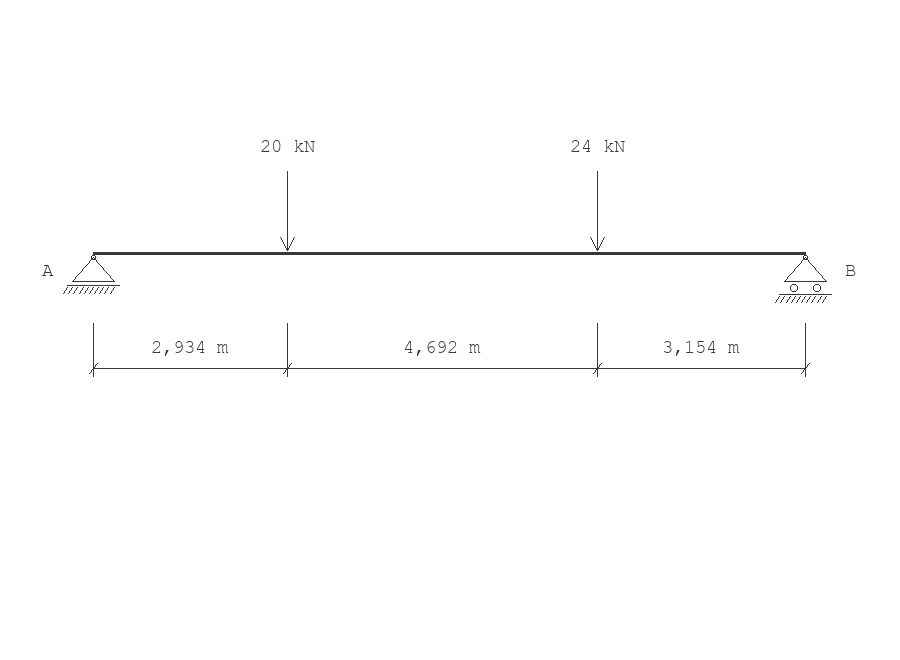pin_support: (63, 255, 120, 294)
point_load: (280, 171, 295, 251), (590, 171, 605, 251)
roller_support: (775, 255, 832, 303)
